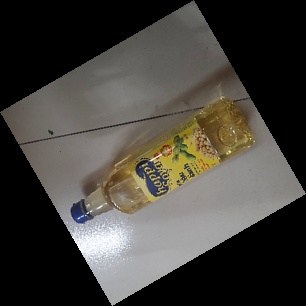Happy Soya: (69, 95, 257, 226)
